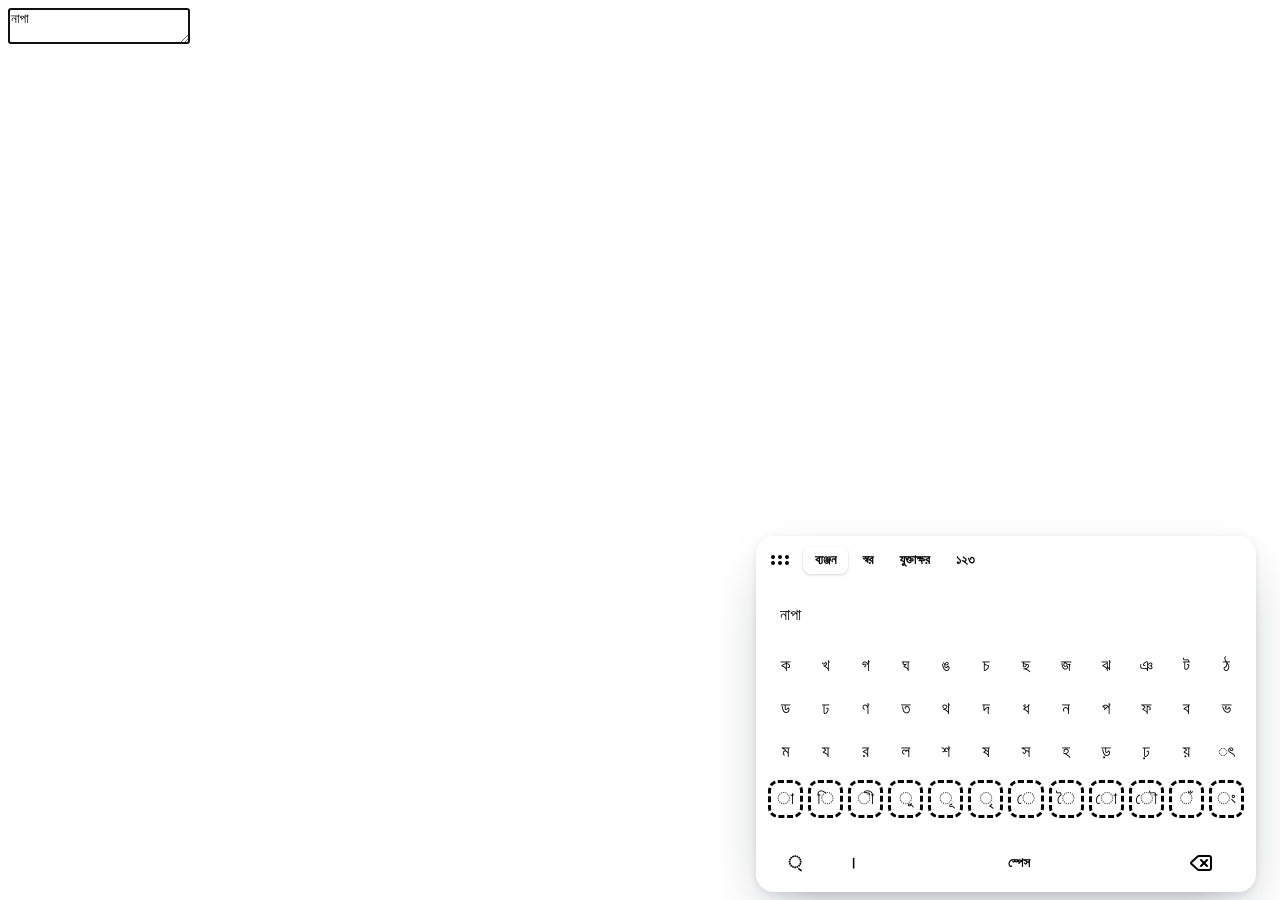
Test: BanglaKeyboard › shows the end of what is in the field, because the field may be under it
Click the button "ক" at (786, 666), box [768, 646, 803, 684]
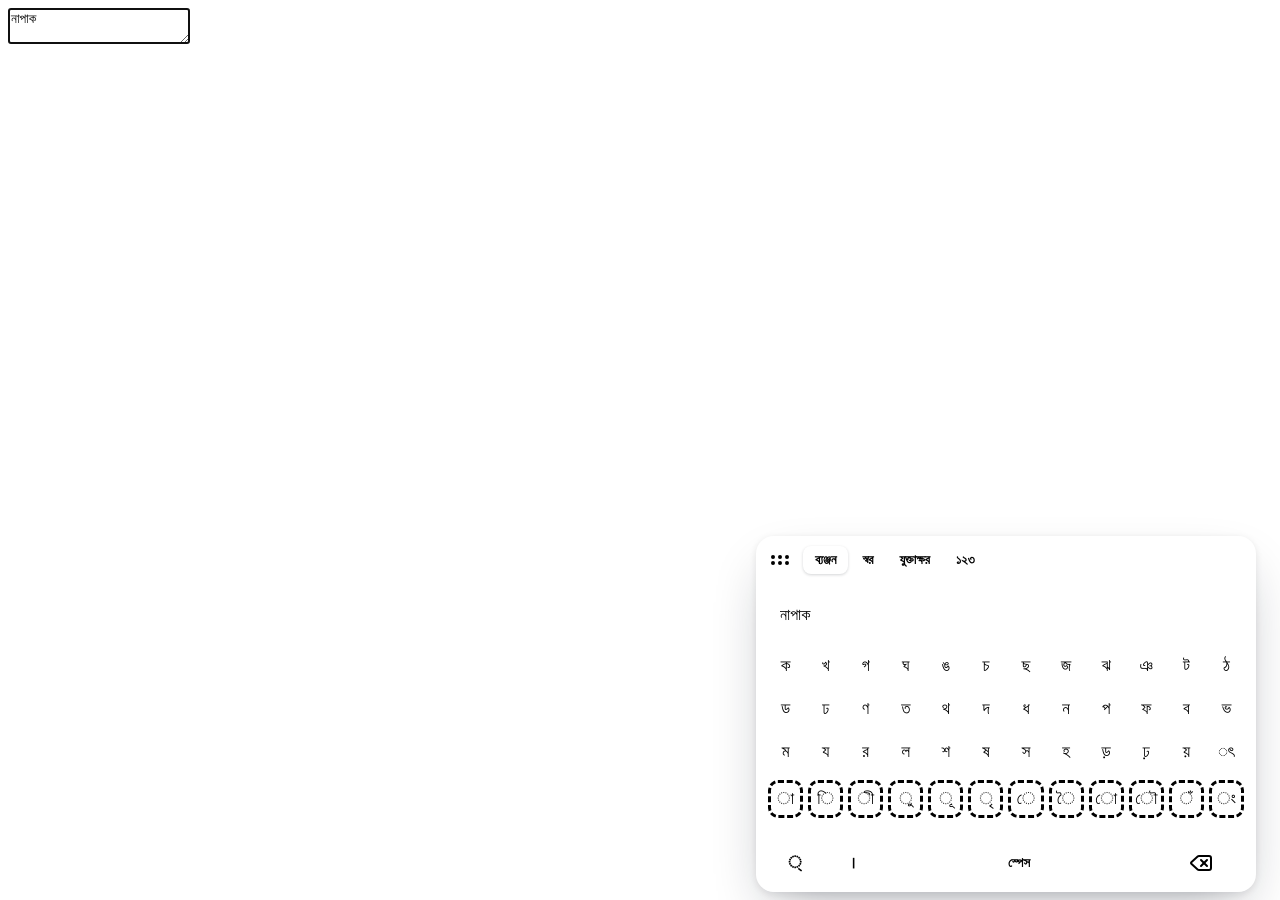
Now the element with class "bnk-text" reads "নাপাক", box [780, 606, 810, 622]
